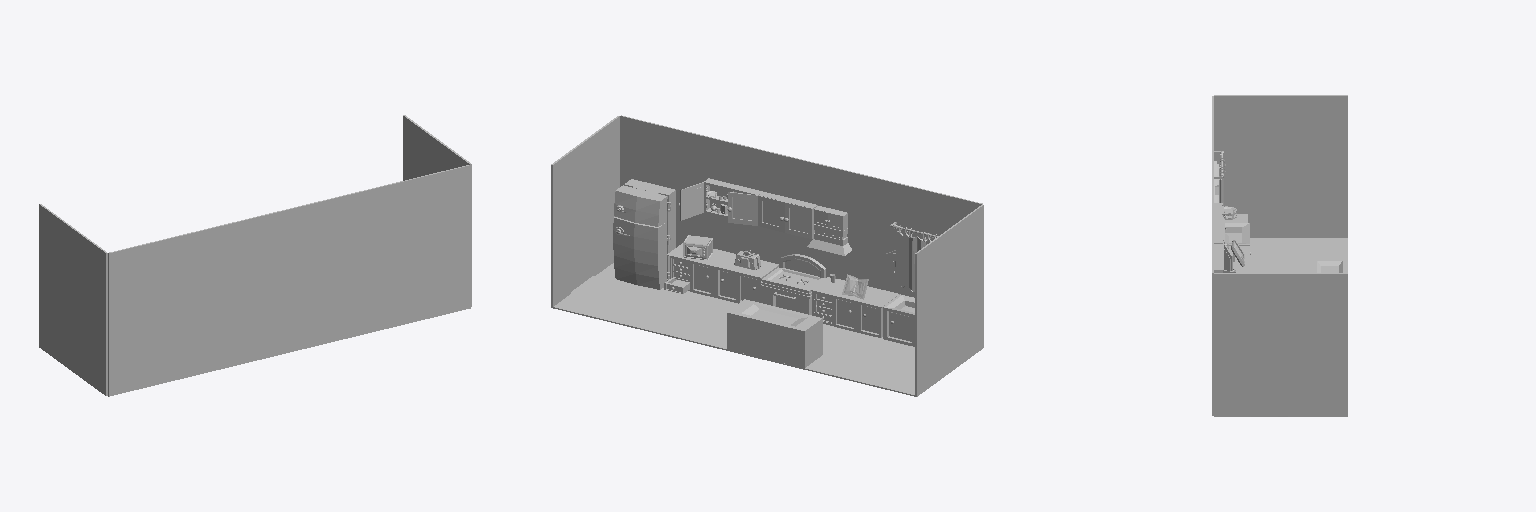
Rendered from cocina.obj.
3 renders of one model, left to right at view 1: azimuth 30°, elevation 25°; view 2: azimuth 150°, elevation 25°; view 3: azimuth 270°, elevation 25°, orthographic.
Visible parts, largest first — view 1: Cocina cocina:Paredes; view 2: Cocina cocina:Paredes, Nevera Cocina pCube1, Cocina cocina:Marmol_2, Cocina pCube56, Cocina pCylinder65, Cocina pTorus3, Cocina pCube65, Cocina polySurface4, Cocina pCube64, Cocina polySurface2, Cocina pCylinder47 group2, Cocina pCube49 (+9 smaller); view 3: Cocina cocina:Paredes, Cocina cocina:Marmol_2.
Boxes of the visible parts, <box> form: Cocina cocina:Paredes: <box>39,115,471,396</box>; Cocina cocina:Paredes: <box>551,115,983,396</box>; Nevera Cocina pCube1: <box>613,179,675,289</box>; Cocina cocina:Marmol_2: <box>727,299,822,367</box>; Cocina pCube56: <box>760,267,825,314</box>; Cocina pCylinder65: <box>883,294,914,346</box>; Cocina pTorus3: <box>890,222,937,291</box>; Cocina pCube65: <box>667,243,778,278</box>; Cocina polySurface4: <box>784,198,817,238</box>; Cocina pCube64: <box>811,277,899,307</box>; Cocina polySurface2: <box>758,192,789,232</box>; Cocina pCylinder47 group2: <box>727,192,757,225</box>; Cocina pCube49: <box>807,224,851,255</box>; Cocina cocina:Paredes: <box>1212,95,1347,416</box>; Cocina cocina:Marmol_2: <box>1312,255,1347,272</box>.
Bounding box in the file's own units: 131 × 49.08 × 42.26.